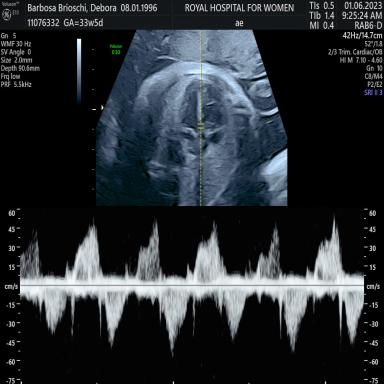Ultrasound-Waves: (24, 212, 363, 384)
